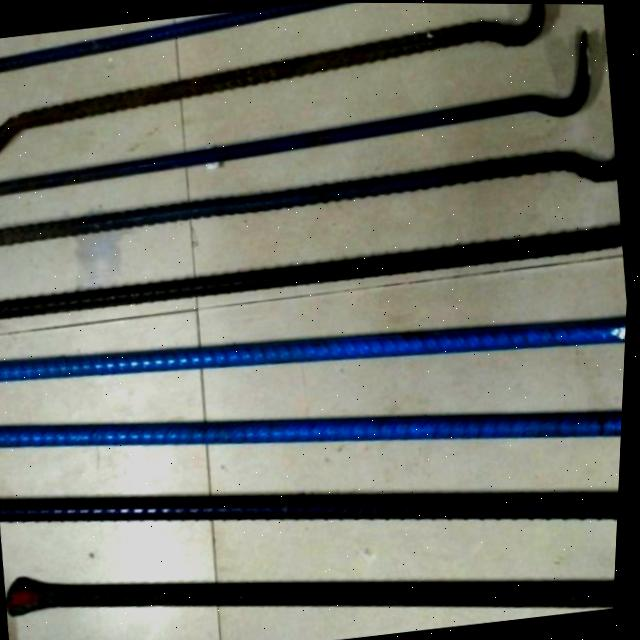crow bar: (0, 18, 599, 199), (0, 105, 619, 251), (0, 3, 553, 159), (0, 216, 624, 323), (0, 2, 367, 75), (9, 579, 620, 617)
